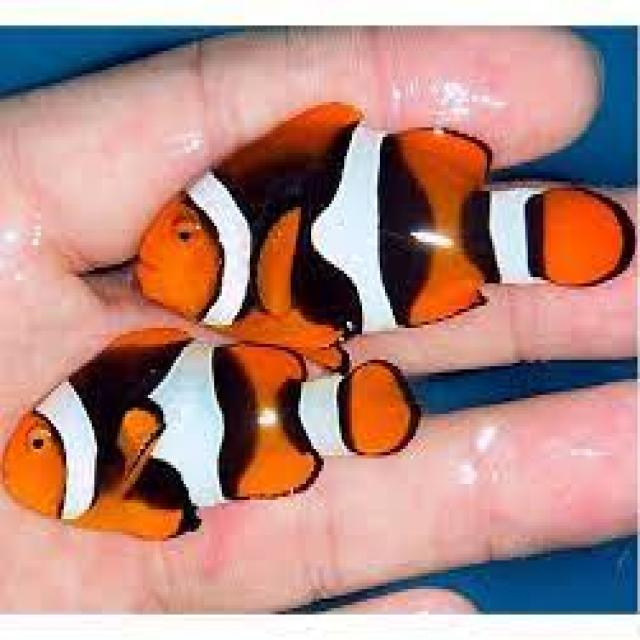ClownFish: (133, 97, 640, 341), (0, 308, 430, 543)
